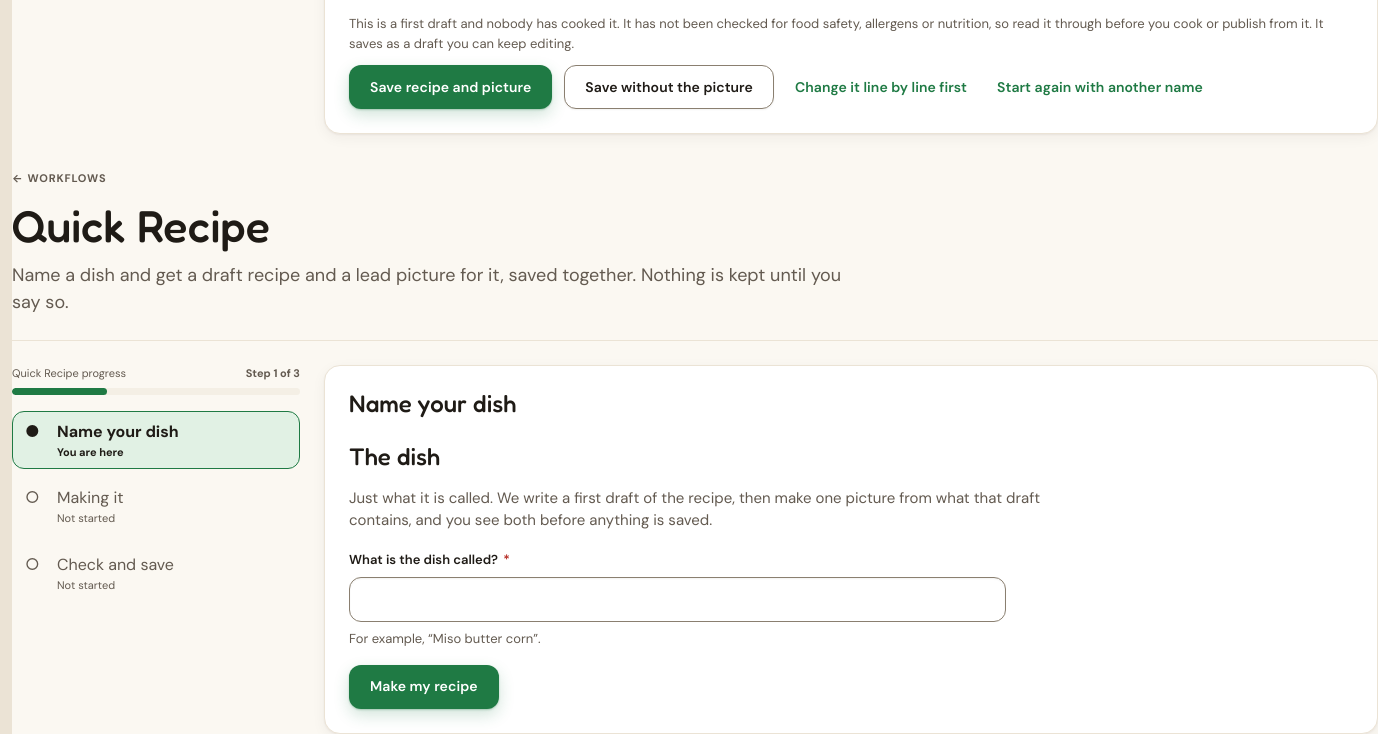
Test case: QuickRecipeComponent › checking it › still offers the recipe when no picture could be made, and says why
(page scrolled)
Type "Miso butter corn" into the field with id "cp-quick-recipe-name".
click(677, 599); type("Miso butter corn")  # box [349, 577, 1006, 622]
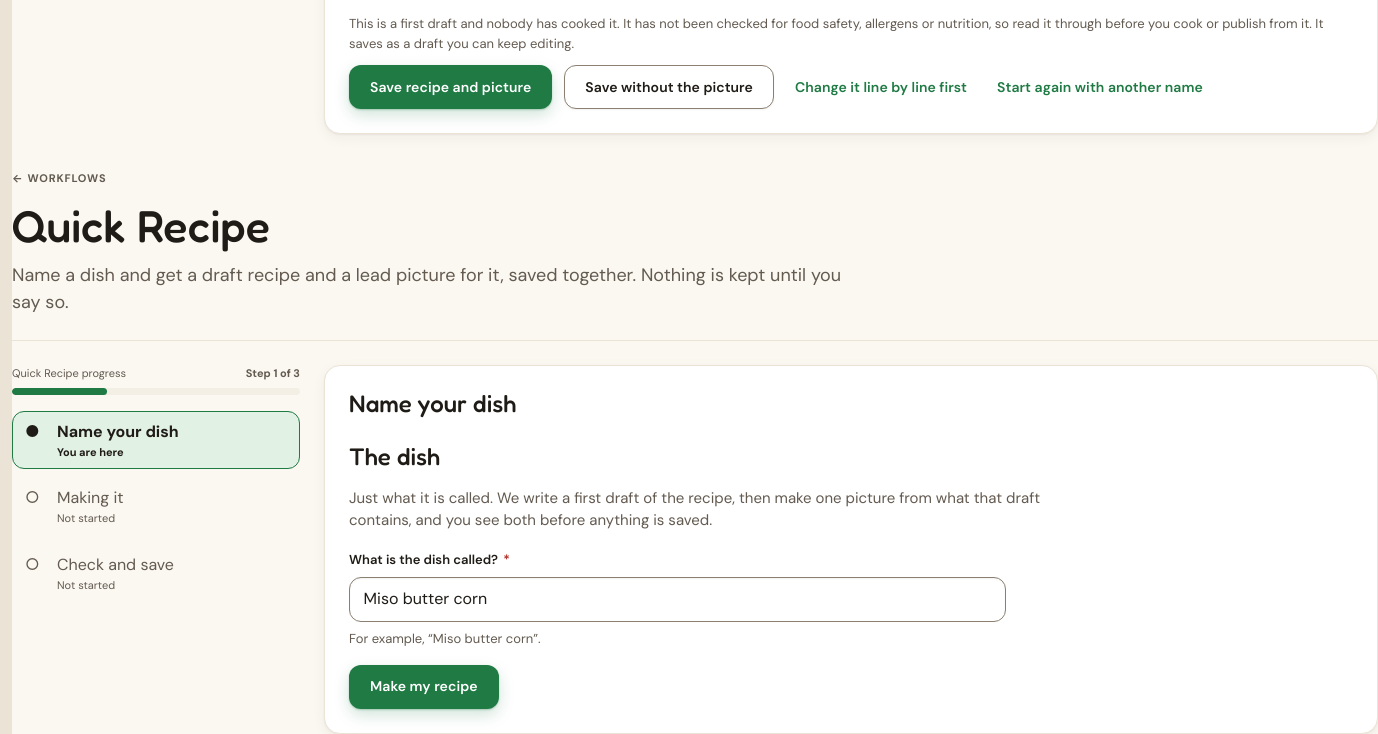
Click the button "Make my recipe".
click(424, 687)  # box [349, 665, 499, 709]
(page scrolled)
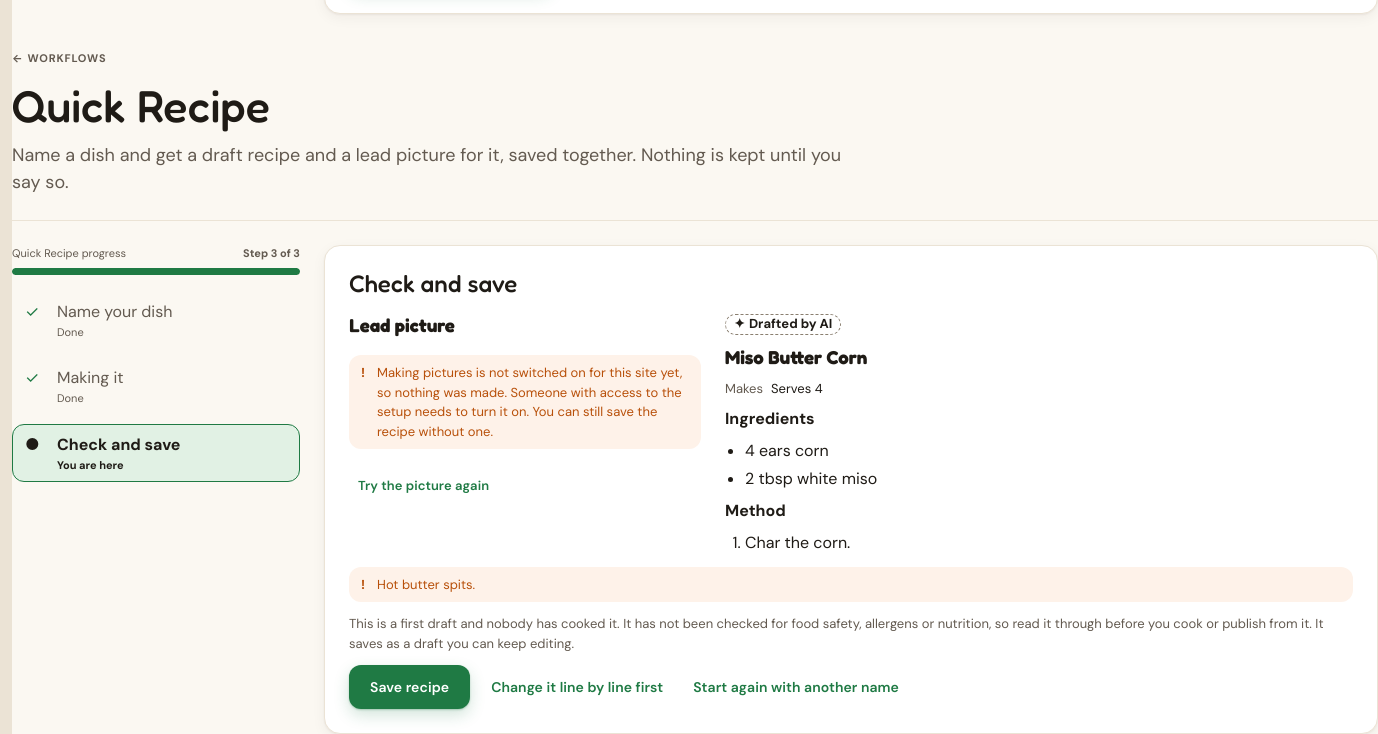
Expected: the text "Making pictures is not switched on" is shown, [377, 364, 682, 440]
Expected: the text "You can still save the recipe without one" is shown, [377, 364, 682, 440]
Expected: the button "Save recipe" is shown, [349, 665, 470, 709]
